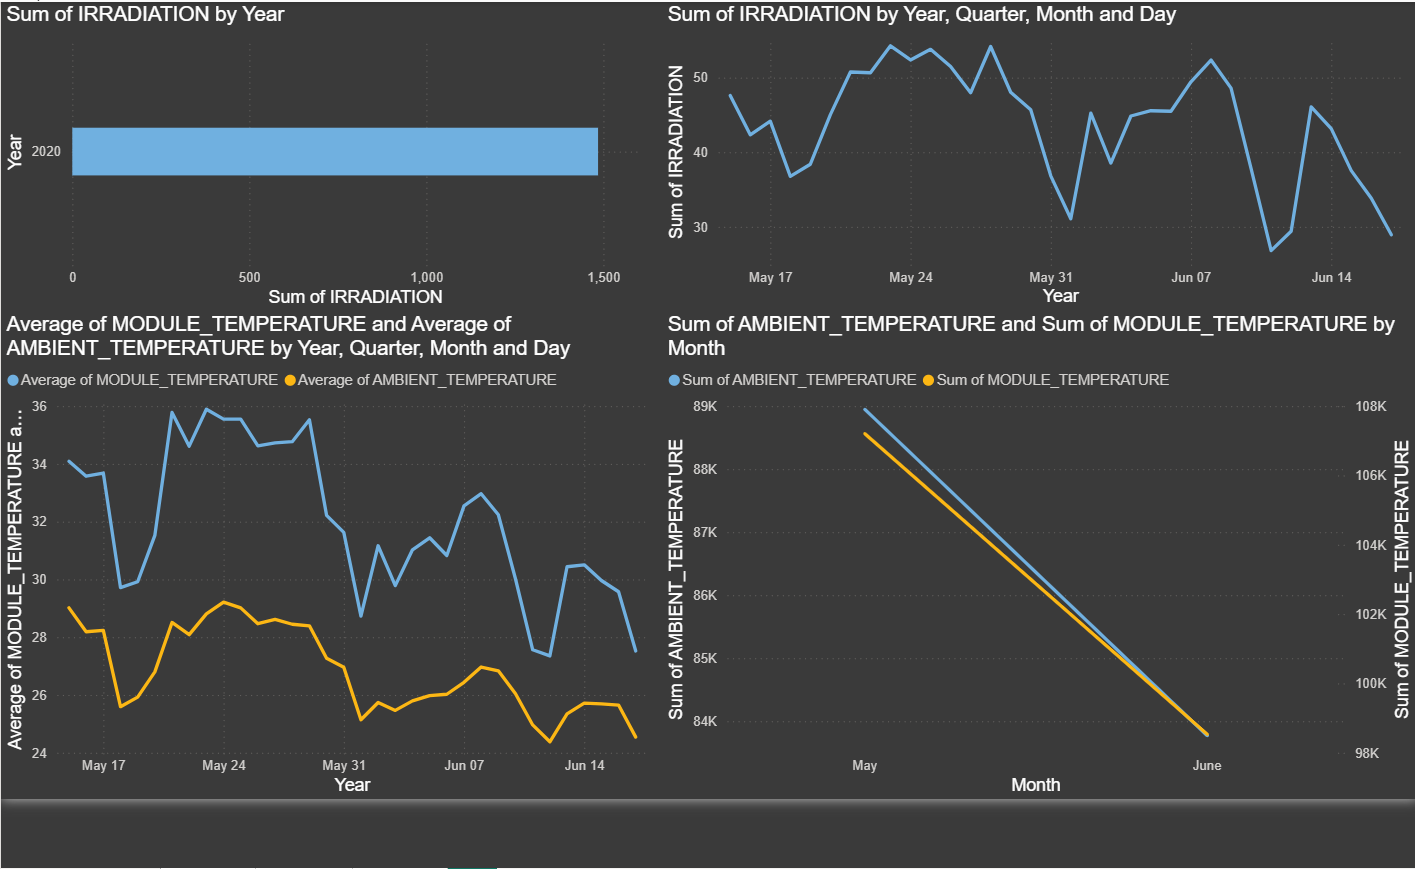

The page's visual inventory and layout, read from the dashboard file:
{"tool":"powerbi","page":{"name":"Page 2","canvas":[1280,720],"ordinal":1},"visuals":[{"type":"barChart","fields":{"Category":["Weather_All.DATE_TIME.Variation.Date Hierarchy.Year"],"Y":["Sum(Weather_All.IRRADIATION)"]},"box":[0,0,597.3,280],"z":0},{"type":"lineChart","fields":{"Y":["Sum(Weather_All.IRRADIATION)"],"Category":["Weather_All.DATE_TIME.Variation.Date Hierarchy.Year","Weather_All.DATE_TIME.Variation.Date Hierarchy.Quarter","Weather_All.DATE_TIME.Variation.Date Hierarchy.Month","Weather_All.DATE_TIME.Variation.Date Hierarchy.Day"]},"box":[597.6,0,682.8,279.6],"z":1000},{"type":"lineChart","fields":{"Y":["Avg(Weather_All.MODULE_TEMPERATURE)","Avg(Weather_All.AMBIENT_TEMPERATURE)"],"Category":["Weather_All.DATE_TIME.Variation.Date Hierarchy.Year","Weather_All.DATE_TIME.Variation.Date Hierarchy.Quarter","Weather_All.DATE_TIME.Variation.Date Hierarchy.Month","Weather_All.DATE_TIME.Variation.Date Hierarchy.Day"]},"box":[0,279.6,597.6,440.6],"z":3000},{"type":"lineChart","fields":{"Category":["Weather_All.DATE_TIME.Variation.Date Hierarchy.Month","Weather_All.DATE_TIME.Variation.Date Hierarchy.Day"],"Y2":["Sum(Weather_All.MODULE_TEMPERATURE)"],"Y":["Sum(Weather_All.AMBIENT_TEMPERATURE)"]},"box":[597.6,279.6,682.8,440.6],"z":4000}]}

Visuals, with their boxes on the page's 1280x720 design canvas (x1, y1, x2, y2). These are canvas units, not pixel positions in the 1415x869 screenshot, which may show the page scaled, cropped or inside an application window:
barChart - Weather_All.DATE_TIME.Variation.Date Hierarchy.Year x Sum(Weather_All.IRRADIATION): (0, 0, 597, 280)
lineChart - Sum(Weather_All.IRRADIATION) x Weather_All.DATE_TIME.Variation.Date Hierarchy.Year: (598, 0, 1280, 280)
lineChart - Avg(Weather_All.MODULE_TEMPERATURE) x Avg(Weather_All.AMBIENT_TEMPERATURE): (0, 280, 598, 720)
lineChart - Weather_All.DATE_TIME.Variation.Date Hierarchy.Month x Weather_All.DATE_TIME.Variation.Date Hierarchy.Day: (598, 280, 1280, 720)
